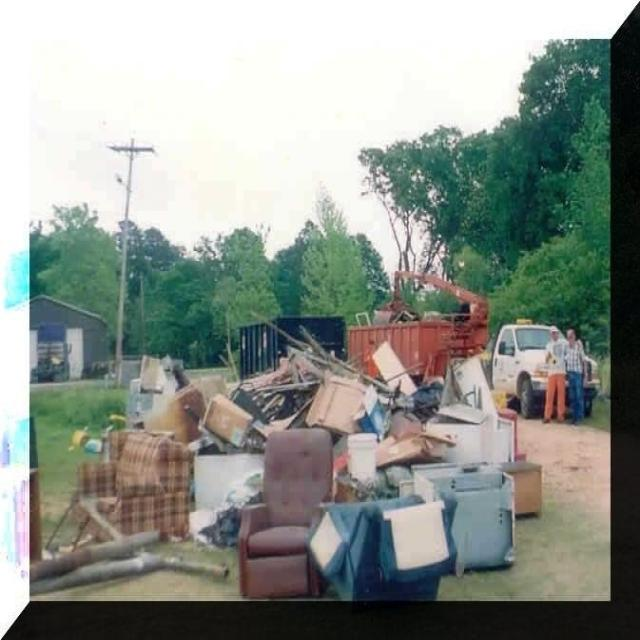Metal: (500, 303, 616, 433), (366, 250, 497, 363)
